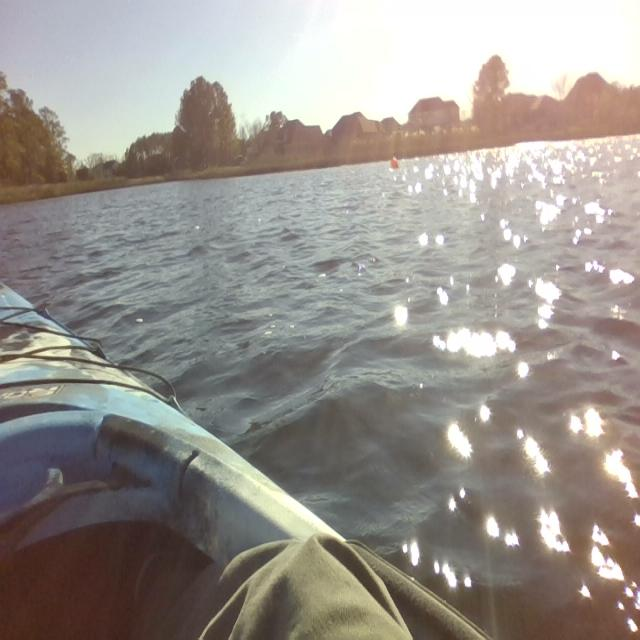Buoy: (386, 149, 404, 174)
